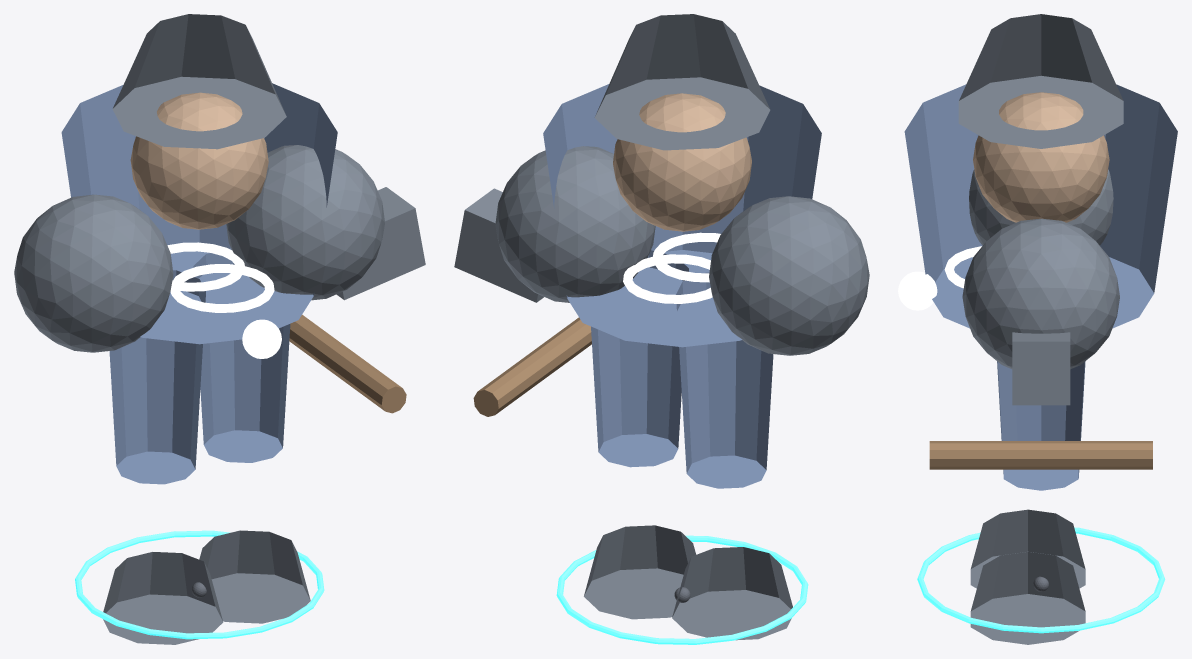
The model's file is storm-warrior-v2.glb.
3 views of the same model, side by side, from view 1: azimuth 30°, elevation 25°; view 2: azimuth 150°, elevation 25°; view 3: azimuth 270°, elevation 25° (orthographic). The views are drawn at different scales.
Visible parts, largest first — view 1: Shoulder_-1, Torso, Shoulder_1, Helmet, Head, Leg_-1, Leg_1, Boot_-1, Boot_1, HammerHandle, HammerHead, SelectionRing (+3 smaller); view 2: Shoulder_-1, Torso, Shoulder_1, Helmet, Leg_-1, Head, Leg_1, Boot_-1, Boot_1, HammerHandle, HammerHead, SelectionRing (+2 smaller); view 3: Torso, Shoulder_1, Helmet, Head, Boot_1, HammerHandle, Leg_1, Boot_-1, HammerHead, SelectionRing, Shoulder_-1, Core (+1 smaller).
Part boxes in pixels (bbox=[...]): Shoulder_-1: bbox=[14, 194, 173, 352]; Torso: bbox=[61, 83, 337, 344]; Shoulder_1: bbox=[226, 145, 384, 300]; Helmet: bbox=[112, 14, 286, 149]; Head: bbox=[130, 92, 268, 229]; Leg_-1: bbox=[109, 270, 205, 484]; Leg_1: bbox=[193, 248, 290, 462]; Boot_-1: bbox=[103, 552, 223, 644]; Boot_1: bbox=[199, 530, 310, 623]; HammerHandle: bbox=[289, 314, 406, 413]; HammerHead: bbox=[336, 187, 425, 300]; SelectionRing: bbox=[75, 530, 324, 639]; Shoulder_-1: bbox=[709, 196, 869, 355]; Torso: bbox=[543, 84, 821, 347]; Shoulder_1: bbox=[495, 146, 655, 302]; Helmet: bbox=[594, 14, 770, 150]; Leg_-1: bbox=[676, 272, 773, 488]; Head: bbox=[613, 93, 751, 231]; Leg_1: bbox=[591, 250, 688, 467]; Boot_-1: bbox=[672, 547, 792, 640]; Boot_1: bbox=[584, 525, 705, 619]; HammerHandle: bbox=[473, 317, 591, 416]; HammerHead: bbox=[454, 188, 543, 302]; SelectionRing: bbox=[556, 535, 808, 644]; Torso: bbox=[904, 84, 1177, 328]; Shoulder_1: bbox=[962, 218, 1119, 369]; Helmet: bbox=[958, 14, 1123, 148]; Head: bbox=[973, 92, 1109, 222]; Boot_1: bbox=[970, 552, 1085, 644]; HammerHandle: bbox=[929, 441, 1152, 469]; Leg_1: bbox=[997, 361, 1085, 490]; Boot_-1: bbox=[970, 509, 1085, 602]; HammerHead: bbox=[1012, 332, 1070, 405]; SelectionRing: bbox=[917, 527, 1165, 633]; Shoulder_-1: bbox=[969, 169, 1113, 245]; Core: bbox=[898, 271, 937, 310].
Size of the model in its own units: 1.68 by 2.36 by 1.06.
